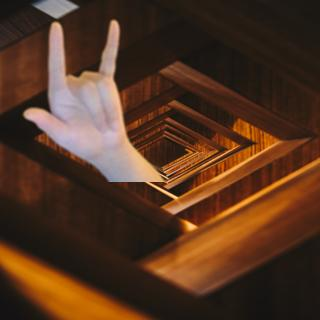ILY: (20, 13, 137, 159)
